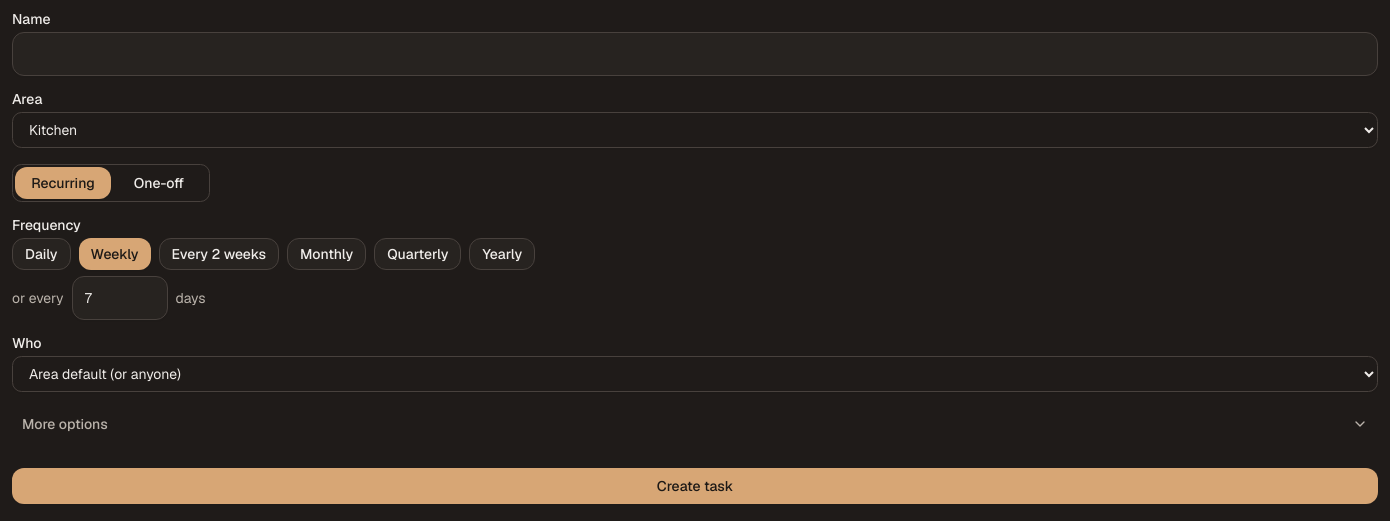
Test: TaskForm progressive disclosure › frequency chips include daily and every 2 weeks
Expected: the button "Daily" is shown, [12,238,70,270]
Expected: the button "Weekly" is shown, [78,238,151,270]
Click the button "Every 2 weeks".
click(219, 254)  # box [159,238,279,270]
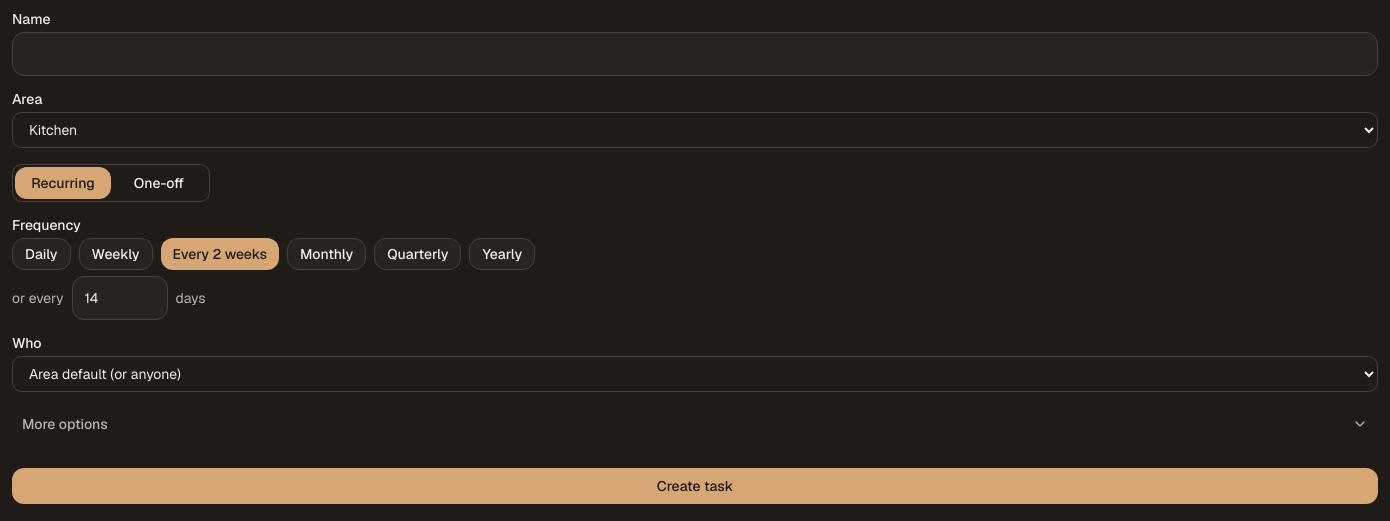
Now the number field labelled "Frequency" holds "14", box [72,276,168,320]
